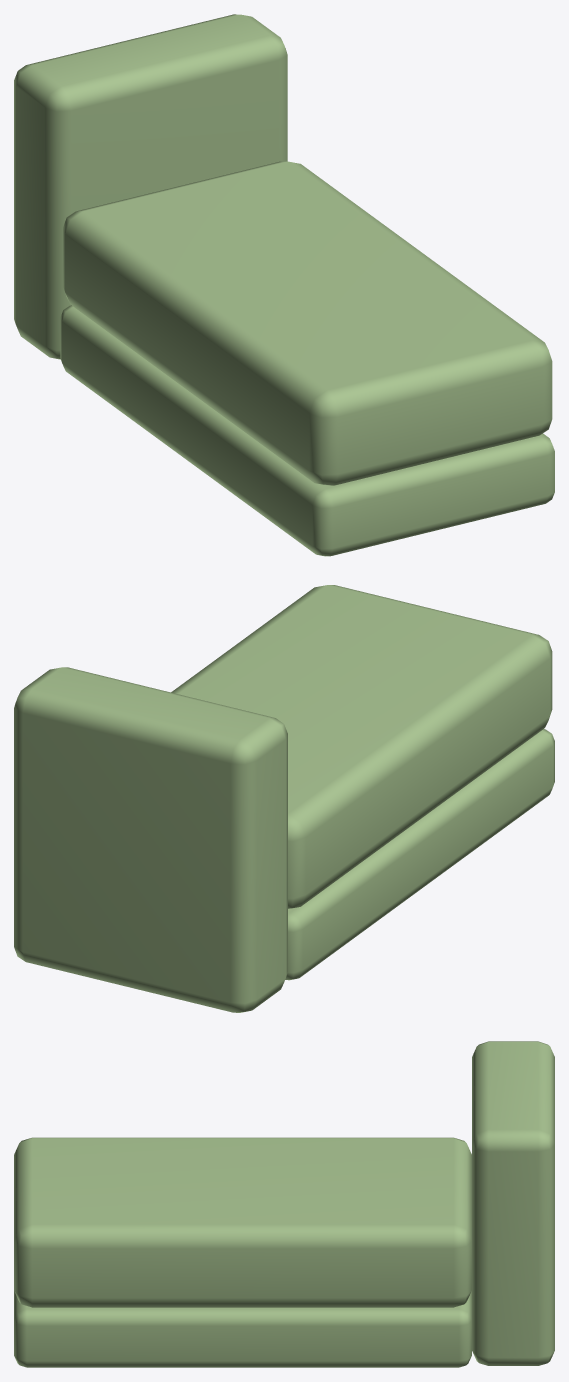
Rendered from Sofa_1.glb.
3 views of the same model, one above another, from view 1: azimuth 30°, elevation 25°; view 2: azimuth 150°, elevation 25°; view 3: azimuth 270°, elevation 25° (orthographic). The views are drawn at different scales.
Parts seen in each view (by area): view 1: Couch_5; view 2: Couch_5; view 3: Couch_5.
Part boxes in pixels (<box>): Couch_5: <box>14,14,554,556</box>; Couch_5: <box>14,585,554,1012</box>; Couch_5: <box>14,1041,554,1367</box>.
Size of the model in its own units: 1.08 by 1.17 by 2.42.
Materials: 1 (1 with a texture image).
